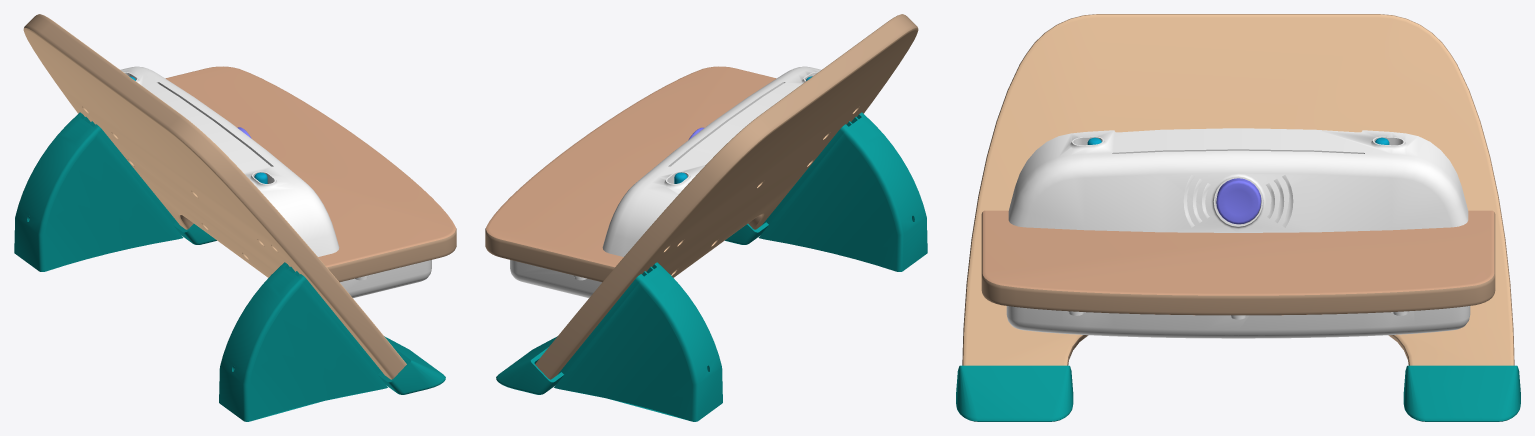
File: baby_einstein_magic_touch_piano.fbx
The picture shows the model from 3 angles, left to right: view 1: azimuth 30°, elevation 25°; view 2: azimuth 150°, elevation 25°; view 3: azimuth 270°, elevation 25°; orthographic projection. The views are drawn at different scales.
Parts seen in each view (by area): view 1: Difference, Union3, Difference2, Difference4, Union4, Union, Union2, Union1; view 2: Difference, Union3, Difference4, Difference2, Union4, Union1, Union2, Union; view 3: Difference, Union3, Union4, Union2, Union, Union1, Group26, Group27.
Part boxes in pixels (box(x1,y1,x2,y2)): Difference: box(23, 14, 406, 379); Union3: box(165, 66, 456, 282); Difference2: box(219, 266, 387, 421); Difference4: box(14, 116, 183, 271); Union4: box(120, 66, 339, 256); Union: box(271, 262, 445, 394); Union2: box(340, 260, 431, 298); Union1: box(66, 112, 216, 244); Difference: box(535, 14, 918, 379); Union3: box(485, 66, 776, 282); Difference4: box(554, 266, 722, 421); Difference2: box(758, 116, 927, 271); Union4: box(602, 66, 821, 256); Union1: box(496, 262, 670, 394); Union2: box(510, 260, 601, 298); Union: box(725, 112, 875, 244); Difference: box(962, 14, 1514, 365); Union3: box(981, 210, 1495, 315); Union4: box(1008, 128, 1468, 232); Union2: box(1006, 306, 1470, 338); Union: box(956, 365, 1073, 421); Union1: box(1403, 365, 1520, 421); Group26: box(1216, 178, 1261, 224); Group27: box(1183, 175, 1293, 227).
Bounding box in the file's own units: 17.96 × 17.66 × 30.44.
